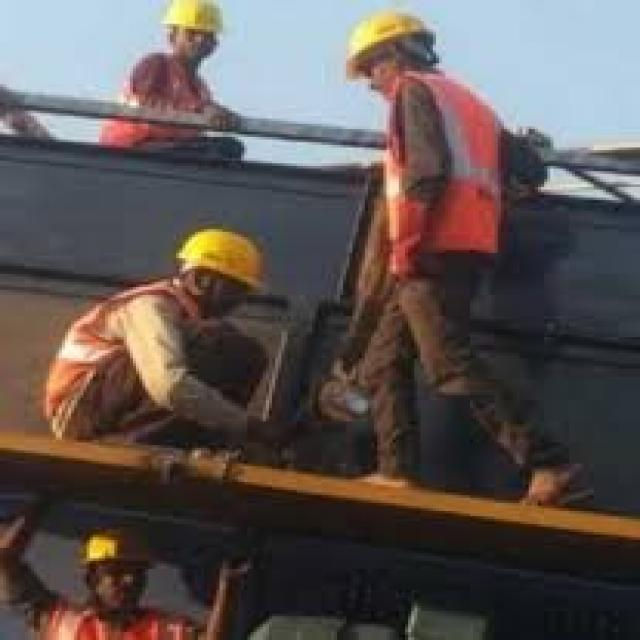reflective_jacket: (355, 68, 519, 279), (27, 274, 207, 440), (86, 47, 238, 160), (43, 600, 207, 639)
safety_helmet: (157, 218, 287, 305), (324, 2, 448, 79), (59, 513, 167, 584), (148, 0, 237, 50)
